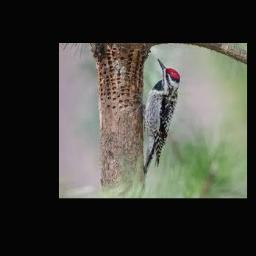Woodpecker: (142, 58, 179, 176)
